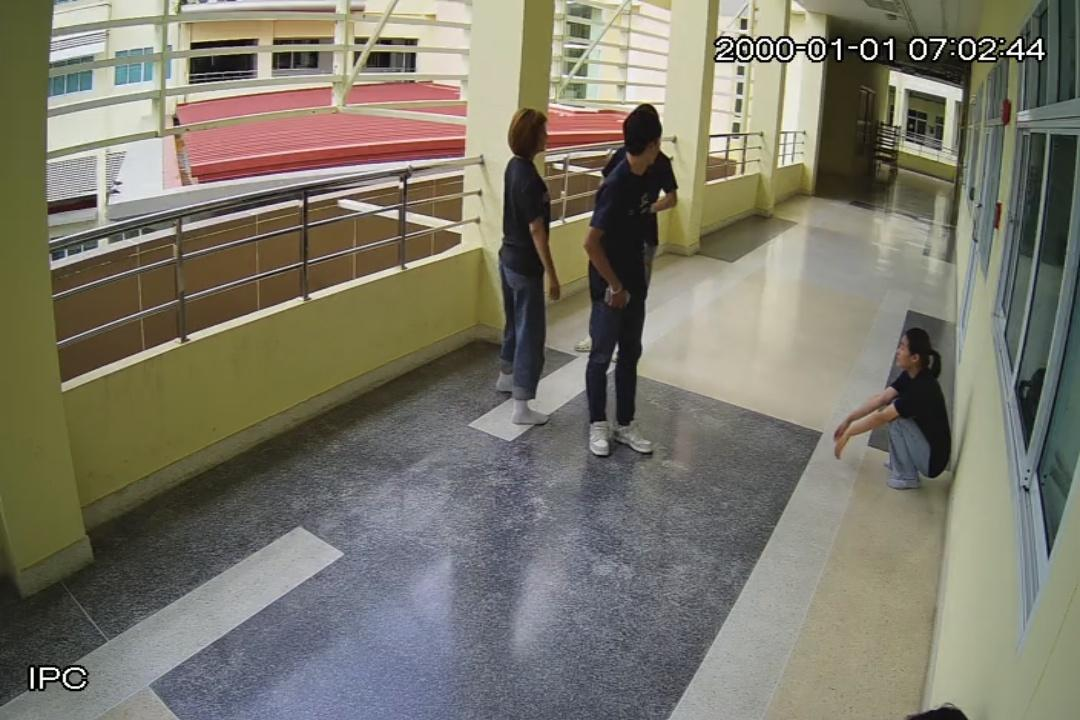normal: (583, 104, 676, 457), (496, 108, 562, 429), (836, 325, 945, 489)
